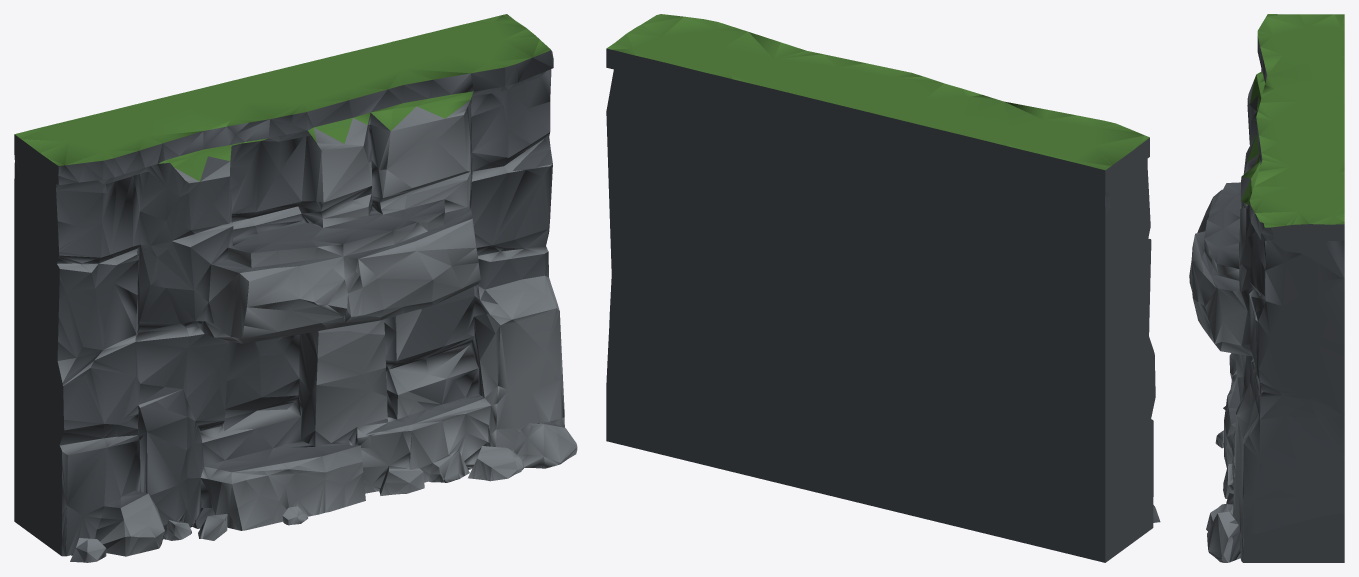
The model's file is mdvl_nature_cliff_02.fbx.
The picture shows the model from 3 angles, left to right: view 1: azimuth 30°, elevation 25°; view 2: azimuth 150°, elevation 25°; view 3: azimuth 270°, elevation 25°; orthographic projection. The views are drawn at different scales.
Visible parts, largest first — view 1: mdvl_nature_cliff_02; view 2: mdvl_nature_cliff_02; view 3: mdvl_nature_cliff_02.
Boxes of the visible parts, x1,y1,x2,y2 form: mdvl_nature_cliff_02: [14, 14, 577, 562]; mdvl_nature_cliff_02: [606, 14, 1160, 562]; mdvl_nature_cliff_02: [1189, 14, 1344, 562].
Bounding box in the file's own units: 4 × 3.01 × 1.25.
